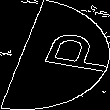P_W: (9, 31, 101, 79)
